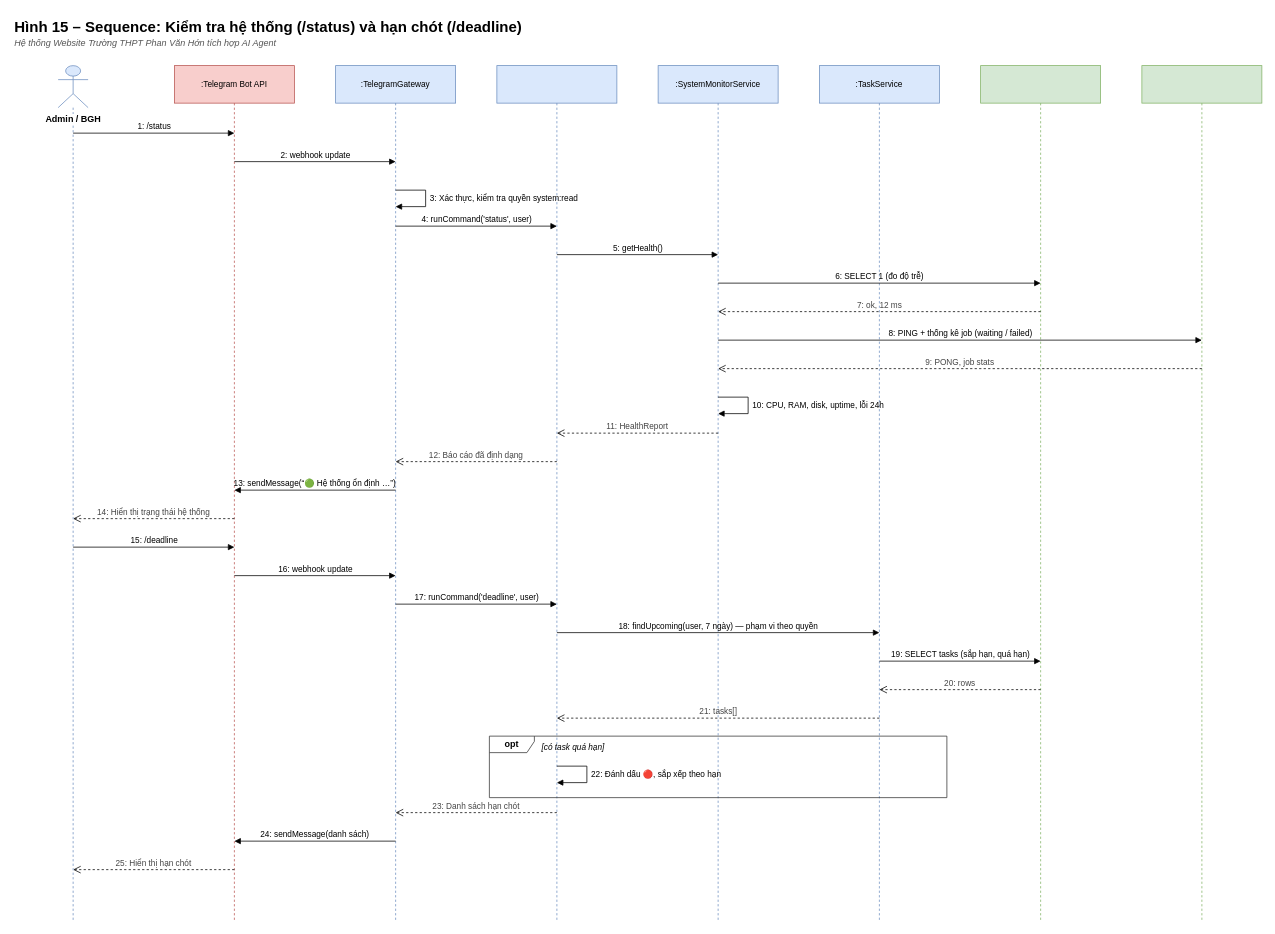
Image size: 1275x934. Some labels were removed from this diagram. The box of each missing label's shape, as (x1, y1, x2, y2) in pixels:
:AgentService: (496, 65, 617, 921)
:PostgreSQL: (980, 65, 1101, 921)
:Redis: (1141, 65, 1262, 921)
